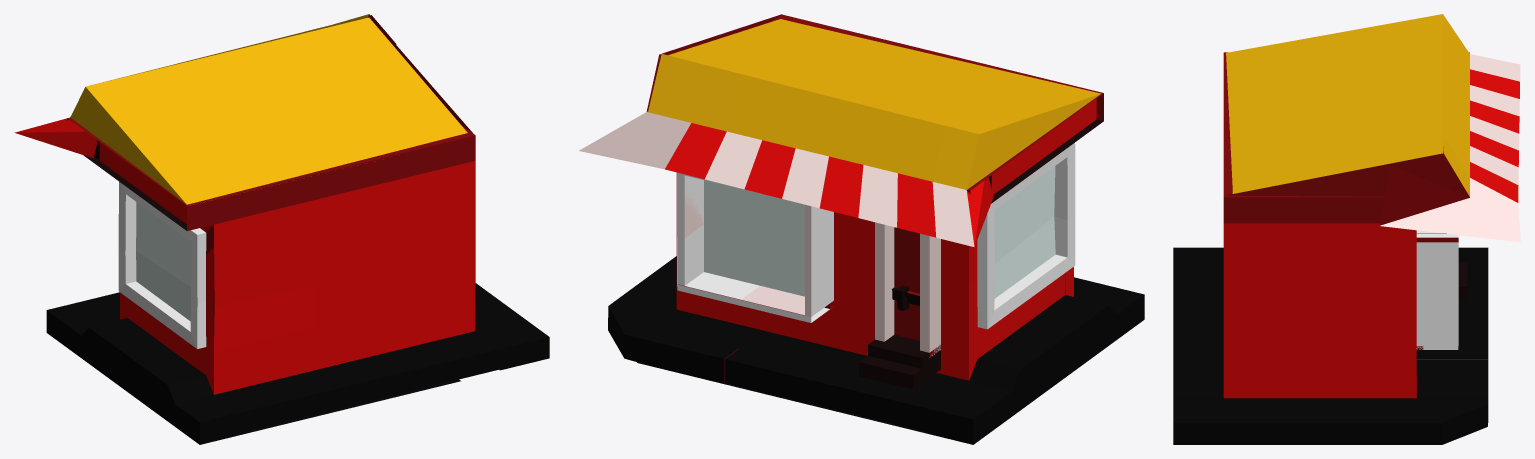
Rendered from house.obj.
The picture shows the model from 3 angles, left to right: view 1: azimuth 30°, elevation 25°; view 2: azimuth 150°, elevation 25°; view 3: azimuth 270°, elevation 25°; orthographic projection. The views are drawn at different scales.
Parts seen in each view (by area): view 1: Cube.002; view 2: Cube.002; view 3: Cube.002.
Part boxes in pixels (box(x1,y1,x2,y2)): Cube.002: box(14, 14, 549, 444); Cube.002: box(579, 14, 1144, 444); Cube.002: box(1173, 14, 1520, 444).
Bounding box in the file's own units: 13.63 × 9.29 × 10.9.
